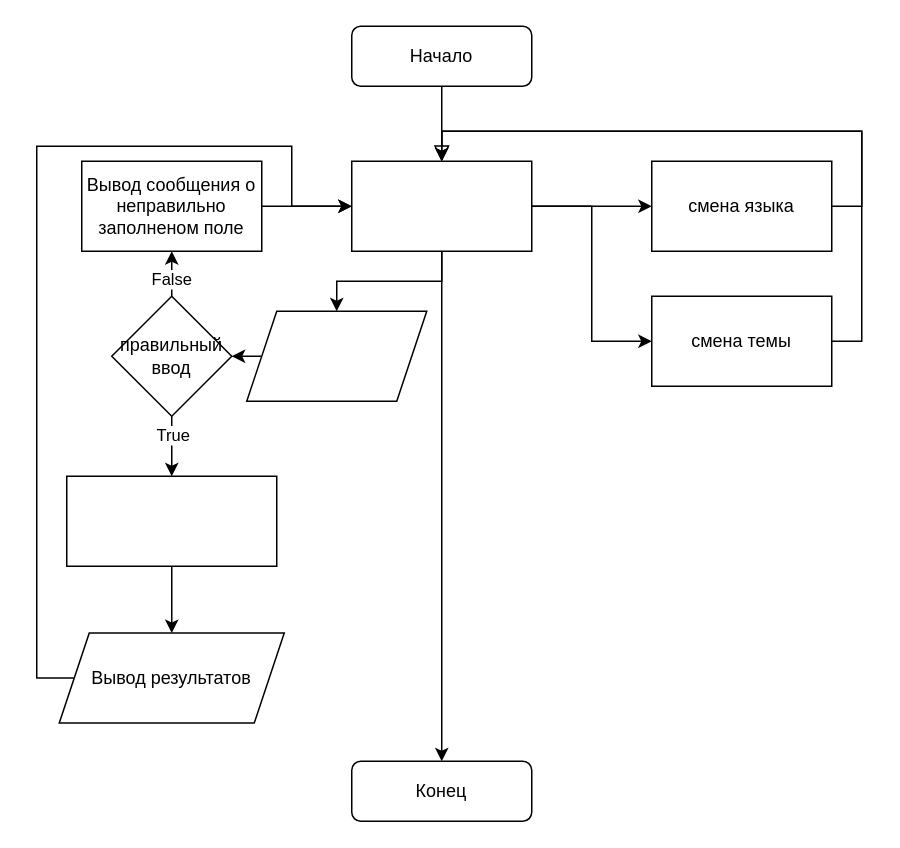
Some shapes in this 900 by 848 pixel diagram are drawn without their labels. The centre of each missing label's shape, as x and y in pixels:
"-Создание экземпляра человек - запись в бд" belongs at (x=171, y=520).
"Ввод значений" belongs at (x=336, y=355).
"Выбор дейстия" belongs at (x=441, y=205).
